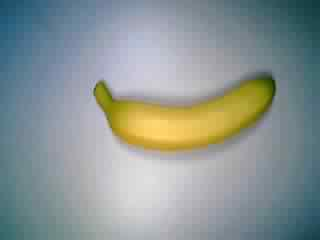banana: (90, 74, 284, 155)
